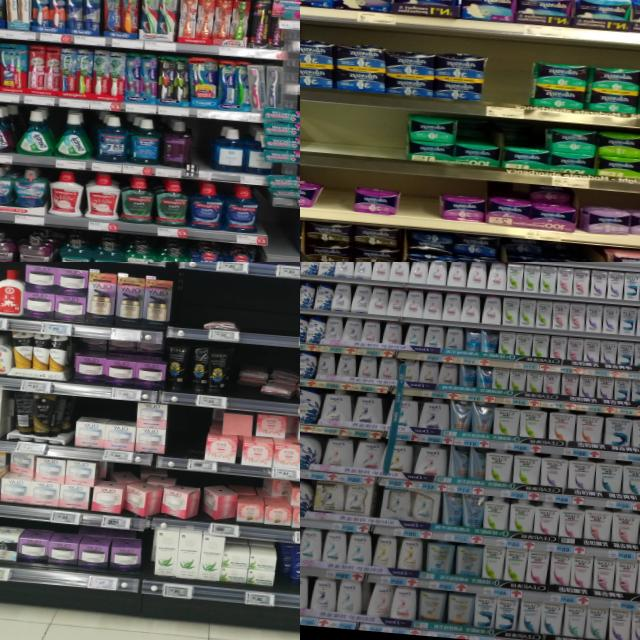100- O.O.S: (300, 102, 405, 173), (240, 277, 300, 350), (482, 42, 530, 118), (164, 404, 206, 470), (397, 176, 439, 228), (170, 278, 206, 338), (321, 169, 357, 222), (266, 212, 292, 262), (189, 120, 210, 178)
